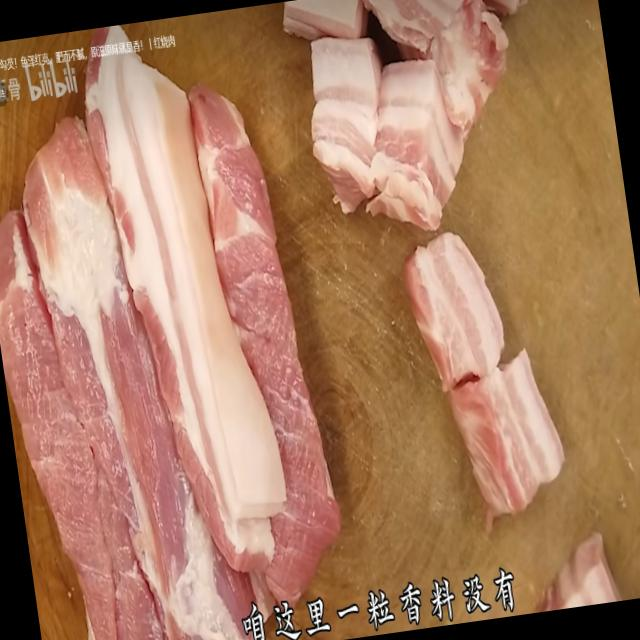--: (0, 96, 344, 603), (398, 207, 564, 534), (306, 12, 472, 231)
